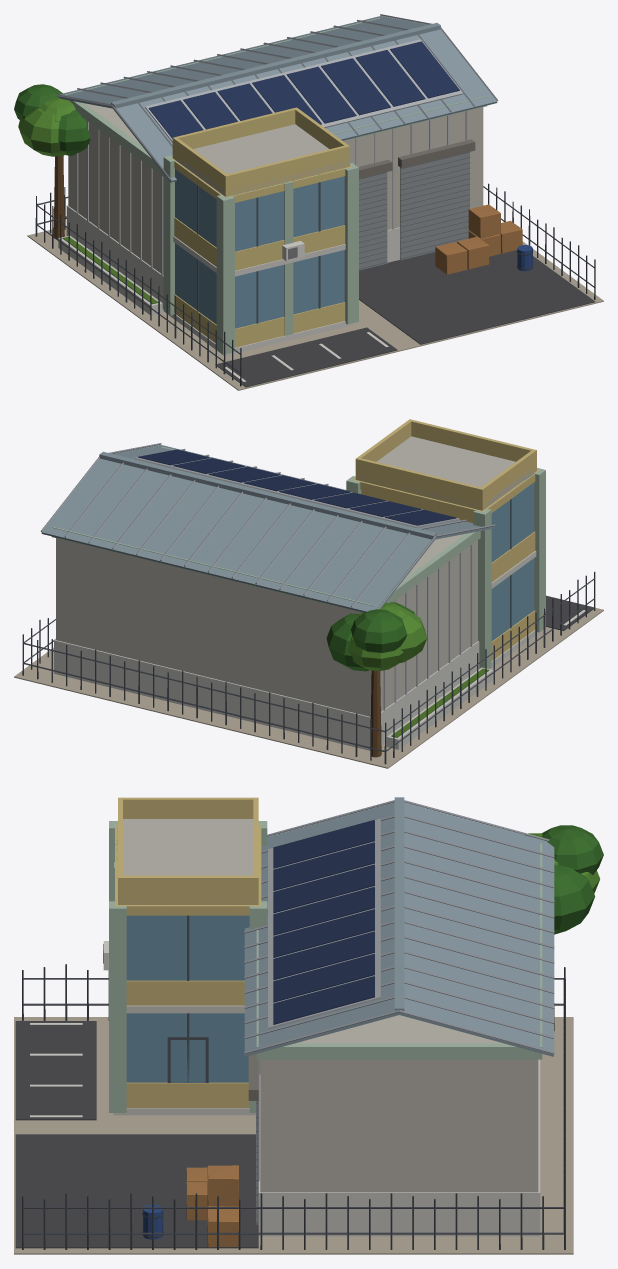
File: factory_1.glb
3 views of the same model, one above another, from view 1: azimuth 30°, elevation 25°; view 2: azimuth 150°, elevation 25°; view 3: azimuth 270°, elevation 25° (orthographic). The views are drawn at different scales.
Parts seen in each view (by area): view 1: body; view 2: body; view 3: body.
Boxes of the visible parts, <box> form: body: <box>14,14,603,390</box>; body: <box>14,419,603,768</box>; body: <box>14,797,603,1254</box>.
Bounding box in the file's own units: 16.66 × 7.49 × 16.76.
